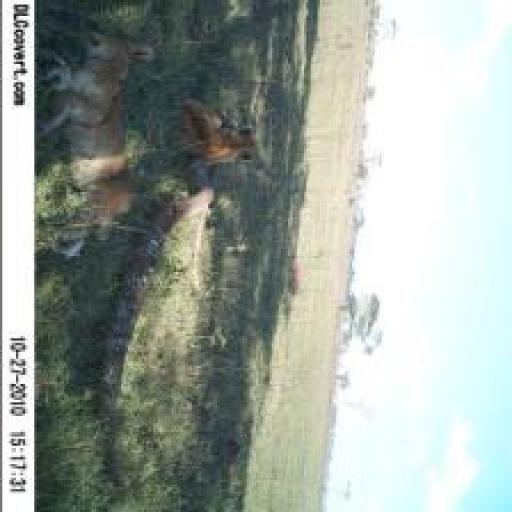lion: (28, 18, 156, 261), (162, 80, 265, 187)
